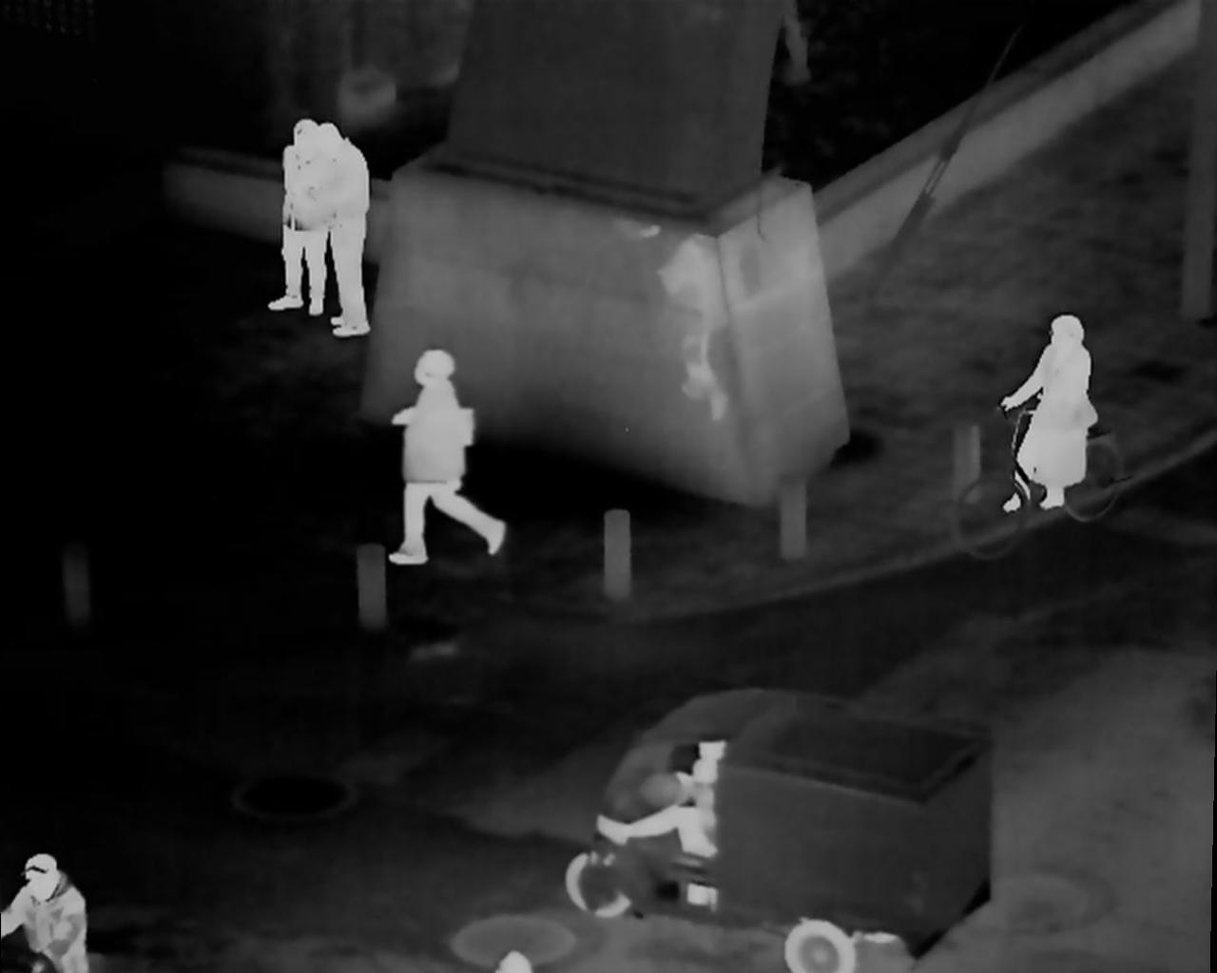person: (378, 359, 493, 567), (995, 312, 1099, 520), (594, 735, 730, 869), (261, 117, 335, 320), (320, 126, 384, 336)
